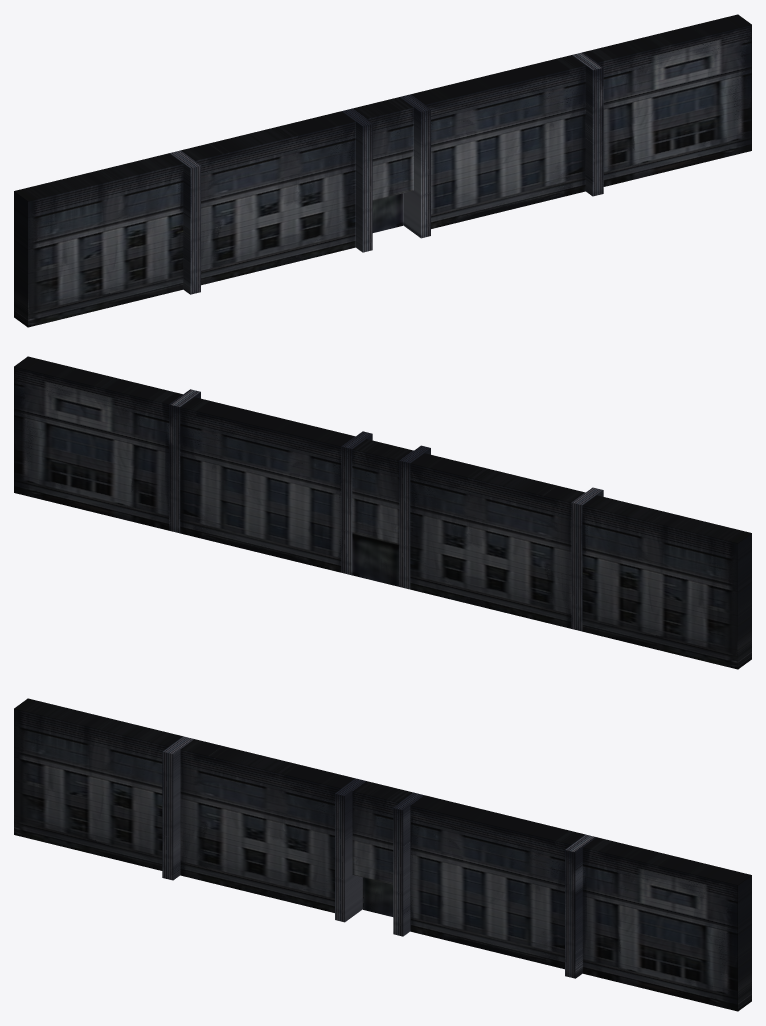
The model's file is wall.fbx.
3 views of the same model, one above another, from view 1: azimuth 30°, elevation 25°; view 2: azimuth 150°, elevation 25°; view 3: azimuth 330°, elevation 25° (orthographic).
Parts seen in each view (by area): view 1: wall; view 2: wall; view 3: wall.
Boxes of the visible parts, box(x1,y1,x2,y2) form: wall: box(14, 14, 751, 327); wall: box(14, 356, 751, 669); wall: box(14, 698, 751, 1011).
Size of the model in its own units: 30 by 5 by 1.5.
